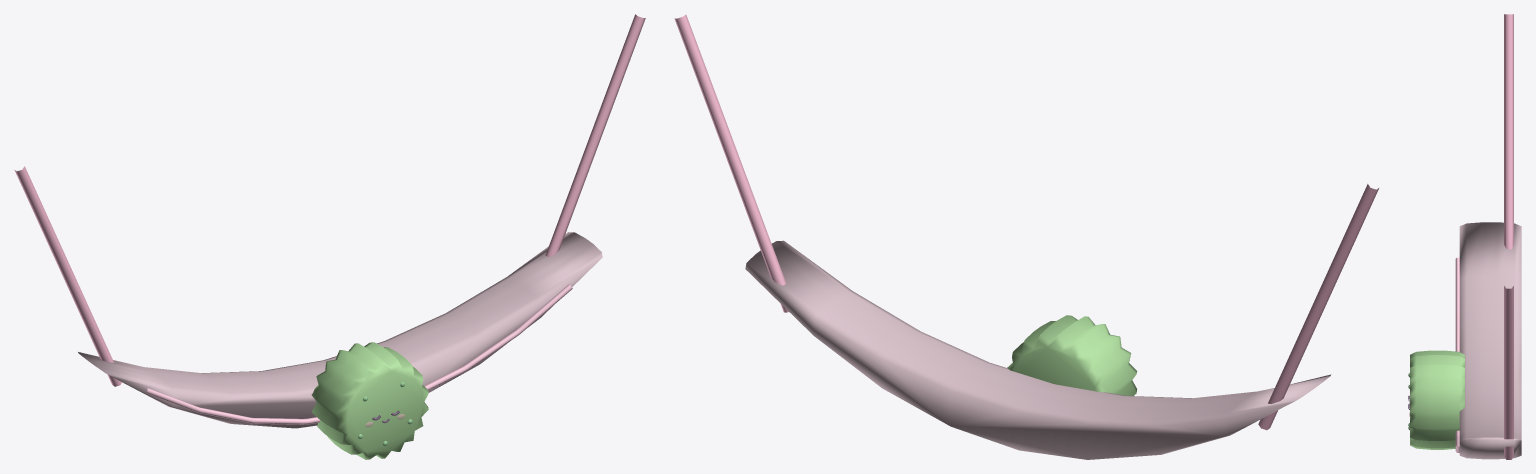
File: decor_1_candy.glb
The picture shows the model from 3 angles, left to right: view 1: azimuth 30°, elevation 25°; view 2: azimuth 150°, elevation 25°; view 3: azimuth 270°, elevation 25°; orthographic projection. The views are drawn at different scales.
Visible parts, largest first — view 1: decor_1_candy; view 2: decor_1_candy; view 3: decor_1_candy.
Part boxes in pixels (left/top/right/bottom): decor_1_candy: left=14, top=14, right=645, bottom=459; decor_1_candy: left=674, top=14, right=1378, bottom=459; decor_1_candy: left=1408, top=14, right=1521, bottom=459.
Bounding box in the file's own units: 19.24 × 9.71 × 3.36.
